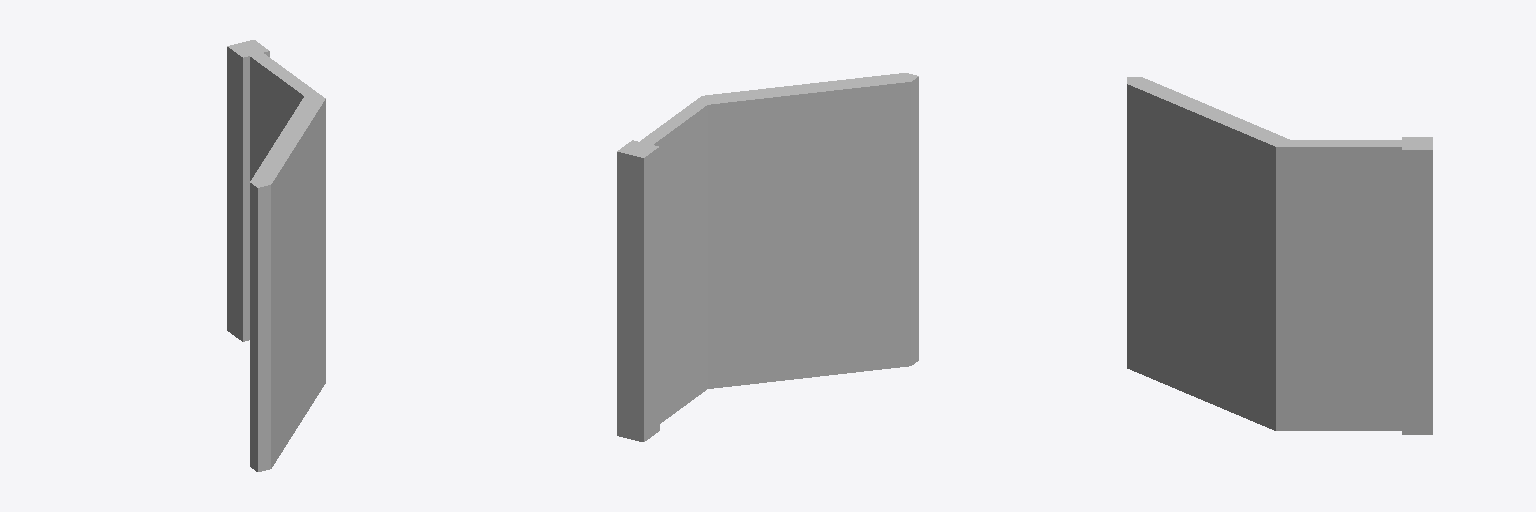
File: wallCornerDiagonalHalf.obj
3 renders of one model, left to right at view 1: azimuth 30°, elevation 25°; view 2: azimuth 150°, elevation 25°; view 3: azimuth 270°, elevation 25°, orthographic.
Visible parts, largest first — view 1: wallCornerDiagonalHalf; view 2: wallCornerDiagonalHalf; view 3: wallCornerDiagonalHalf.
Boxes of the visible parts, x1=… form: wallCornerDiagonalHalf: x1=227, y1=40, x2=325, y2=471; wallCornerDiagonalHalf: x1=617, y1=73, x2=918, y2=441; wallCornerDiagonalHalf: x1=1127, y1=77, x2=1432, y2=434.
Size of the model in its own units: 0.55 by 1 by 0.975.